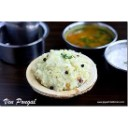venpongal: (32, 49, 91, 88)
